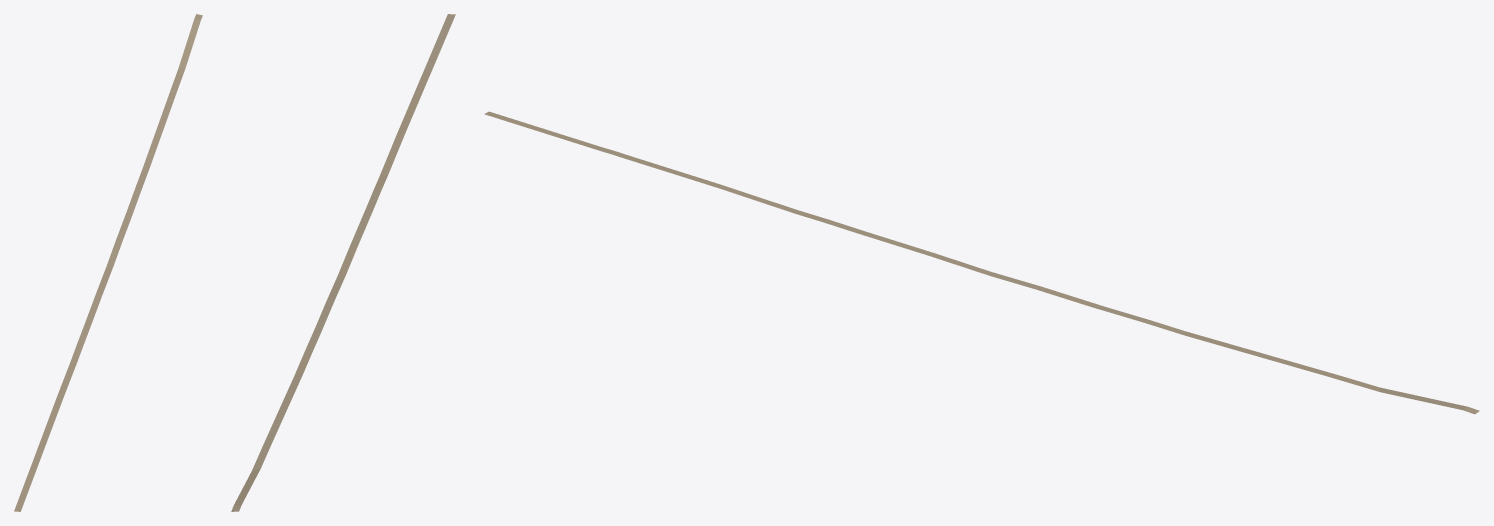
File: farm_-25_-26_track.glb
3 renders of one model, left to right at view 1: azimuth 30°, elevation 25°; view 2: azimuth 210°, elevation 25°; view 3: azimuth 270°, elevation 25°, orthographic. The views are drawn at different scales.
Parts seen in each view (by area): view 1: geometry_0; view 2: geometry_0; view 3: geometry_0.
Part boxes in pixels (left/top/right/bottom): geometry_0: left=14, top=14, right=202, bottom=511; geometry_0: left=231, top=14, right=455, bottom=511; geometry_0: left=484, top=111, right=1479, bottom=414.
Bounding box in the file's own units: 339 × 21.13 × 409.
